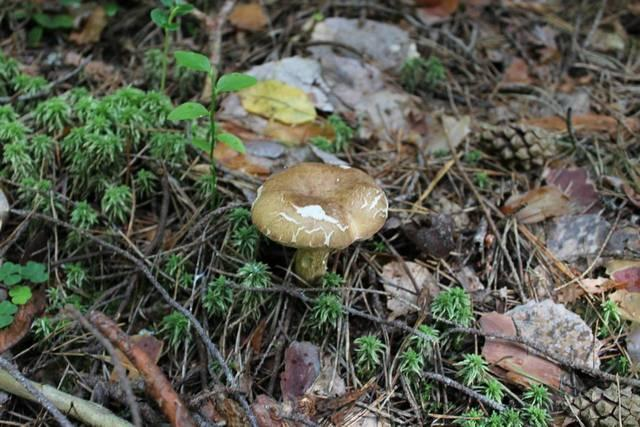Non-edible Mushroom: (249, 160, 389, 285)
